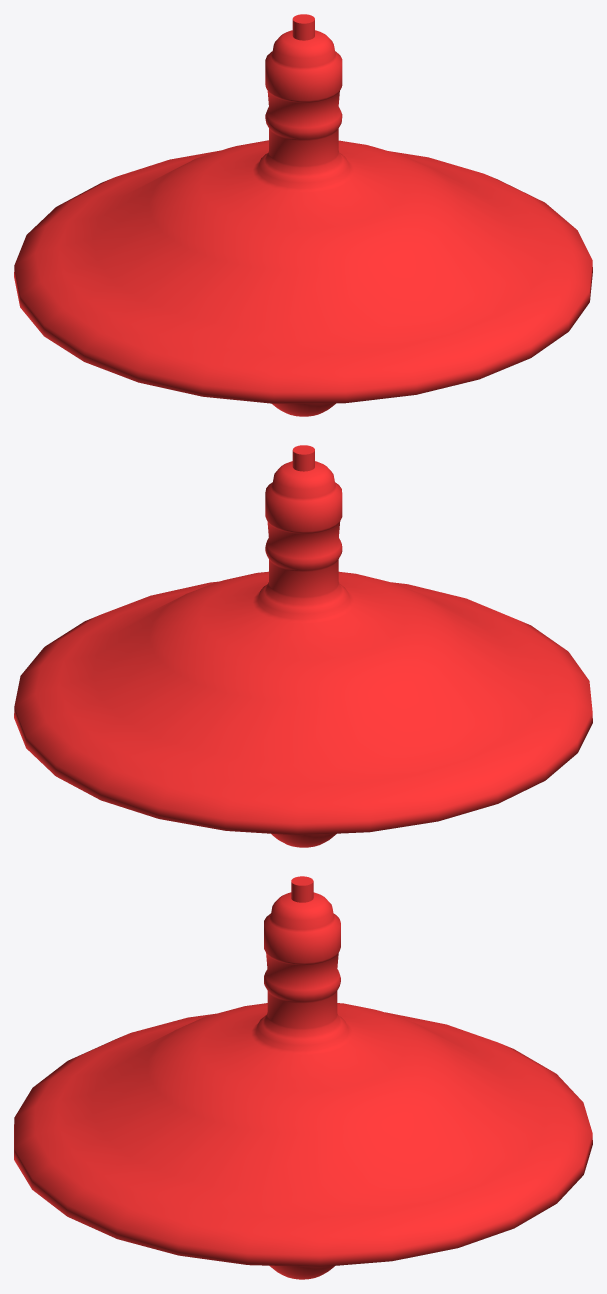
File: L_Lamp_Ceiling.fbx
3 views of the same model, one above another, from view 1: azimuth 30°, elevation 25°; view 2: azimuth 150°, elevation 25°; view 3: azimuth 270°, elevation 25° (orthographic).
Visible parts, largest first — view 1: Lamp; view 2: Lamp; view 3: Lamp.
Part boxes in pixels (x1,y1,x2,y2): Lamp: (14, 14, 592, 416); Lamp: (14, 445, 592, 847); Lamp: (14, 876, 592, 1279).
Bounding box in the file's own units: 52.81 × 52.71 × 39.35.
